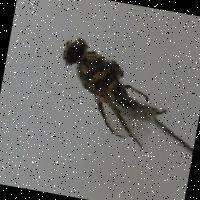Oriental-fruit-fly: (44, 28, 183, 154)
